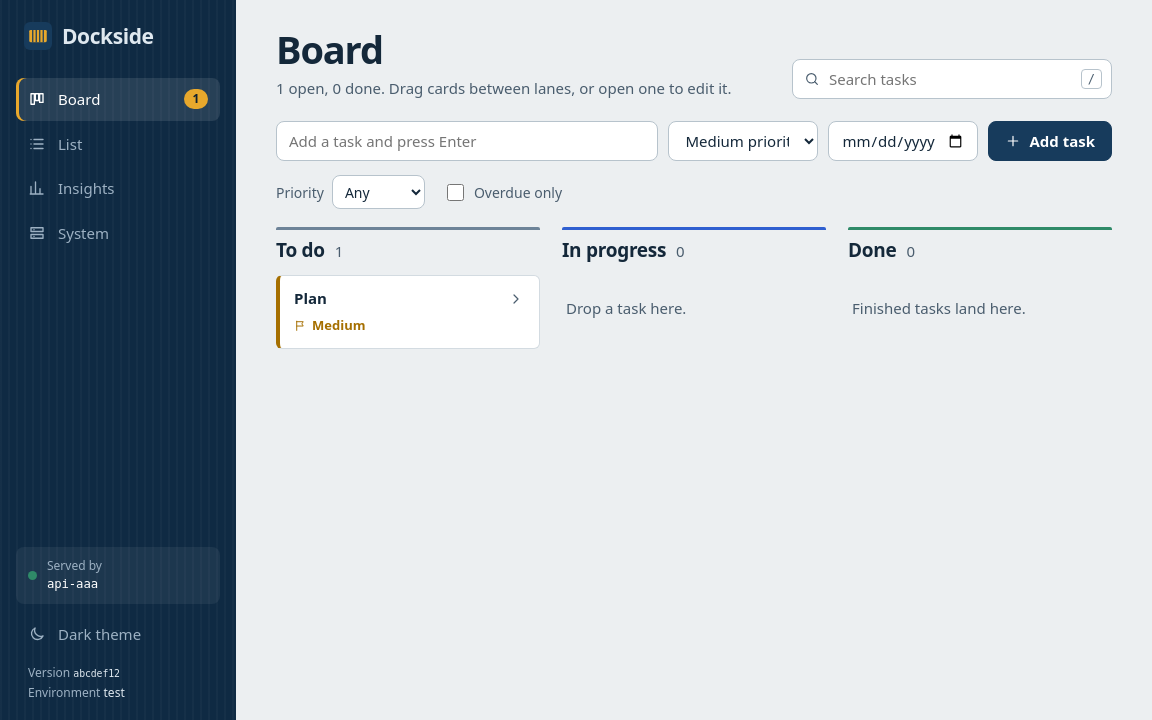
Test: board › puts a card back and says why when the server refuses the change
The width and height of the screenshot is (1152, 720).
Expected: the button "Plan" is shown, left=294, top=288, right=495, bottom=308
Click the button named "move plan to in progress" at (516, 299), box left=501, top=284, right=531, bottom=314
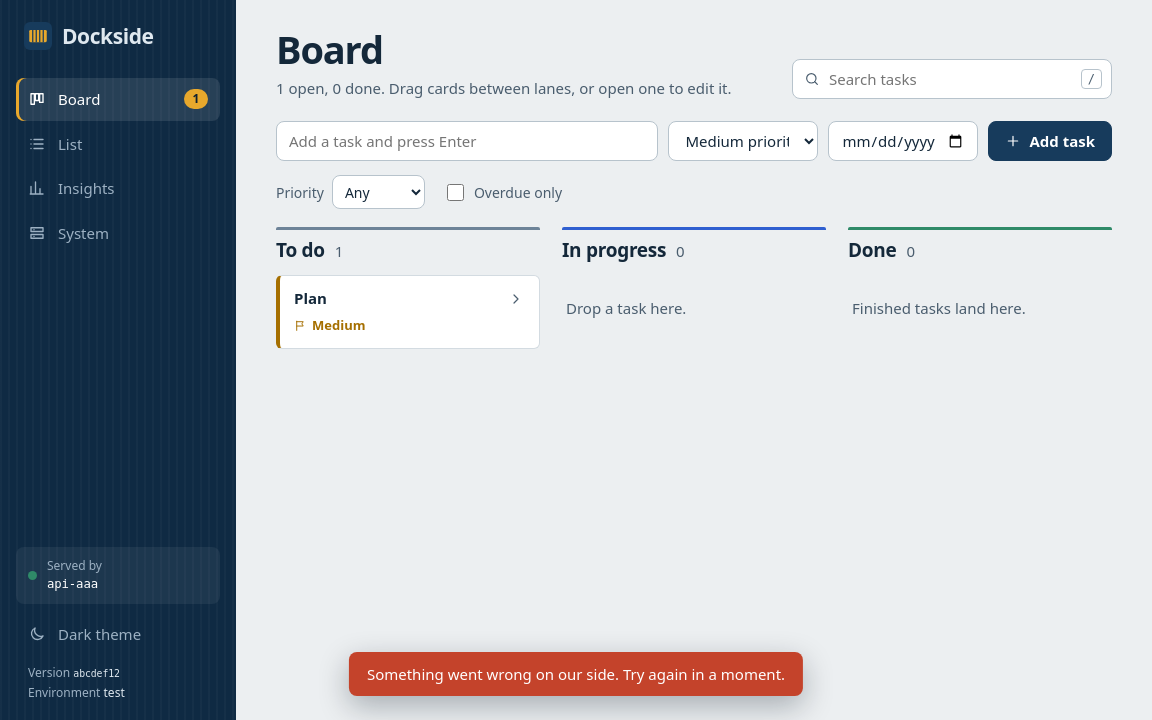
Expected: the button "Plan" is shown, left=294, top=288, right=495, bottom=308
Expected: the text "Something went wrong on our side. Try again in a moment." is shown, left=349, top=652, right=803, bottom=696
